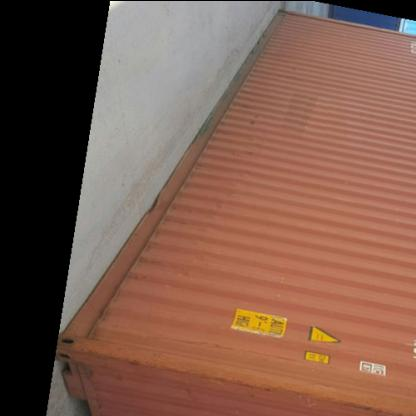Damage: (88, 342, 390, 416)
